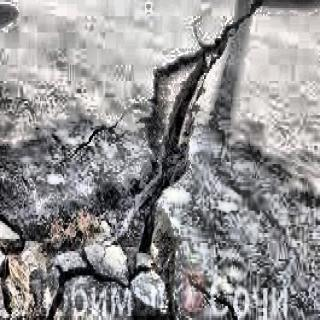alligator-crack: (2, 194, 128, 320)
crack: (130, 0, 276, 316)
